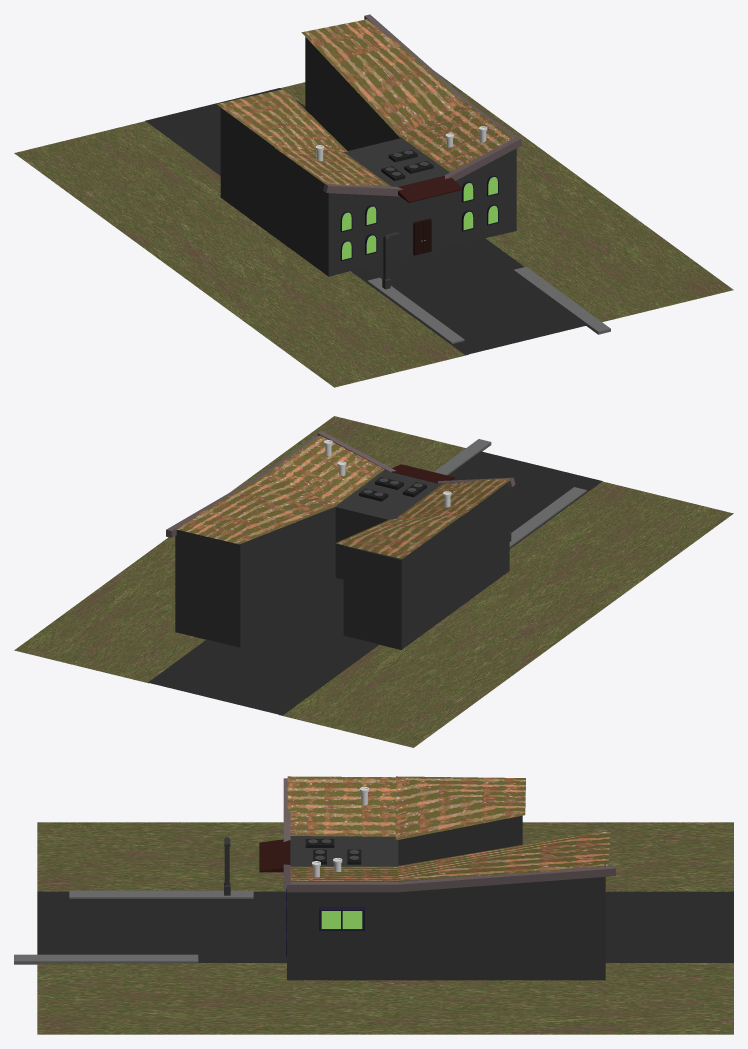
File: zavod scene.fbx
The picture shows the model from 3 angles, top to bottom: view 1: azimuth 30°, elevation 25°; view 2: azimuth 150°, elevation 25°; view 3: azimuth 270°, elevation 25°; orthographic projection. The views are drawn at different scales.
Visible parts, largest first — view 1: Plane.003, Cube, Plane.002, Plane, Plane.005, Plane.006, Plane.007, Plane.004, Cube.003, Cube.024, Cube.019, Cube.012 (+2 smaller); view 2: Plane.003, Cube, Plane, Plane.002, Plane.005, Plane.007, Plane.006, Plane.004, Cube.019, Cube.024, Cube.017, Cube.003 (+1 smaller); view 3: Plane.002, Cube, Plane.003, Plane, Plane.006, Plane.004, Plane.005, Cube.017, Cube.024, Cube.019, Plane.007, Cube.001 (+2 smaller).
Part boxes in pixels (<box>): Plane.003: <box>14,121,468,387</box>; Cube: <box>220,20,516,276</box>; Plane.002: <box>280,71,733,322</box>; Plane: <box>145,88,587,354</box>; Plane.005: <box>301,19,464,137</box>; Plane.006: <box>217,89,347,152</box>; Plane.007: <box>401,102,513,172</box>; Plane.004: <box>274,147,390,186</box>; Cube.003: <box>323,136,522,196</box>; Cube.024: <box>513,267,610,334</box>; Cube.019: <box>367,277,464,343</box>; Cube.012: <box>398,175,462,202</box>; Plane.003: <box>279,481,733,747</box>; Cube: <box>175,470,509,649</box>; Plane: <box>148,451,602,715</box>; Plane.002: <box>14,416,465,683</box>; Plane.005: <box>176,471,336,544</box>; Plane.007: <box>270,435,384,505</box>; Plane.006: <box>335,514,462,558</box>; Plane.004: <box>396,478,512,518</box>; Cube.019: <box>509,487,586,547</box>; Cube.024: <box>434,439,491,475</box>; Cube.017: <box>166,434,318,537</box>; Cube.003: <box>317,430,515,487</box>; Plane.002: <box>37,963,733,1034</box>; Cube: <box>287,815,605,980</box>; Plane.003: <box>37,822,733,891</box>; Plane: <box>37,891,733,962</box>; Plane.006: <box>395,776,525,839</box>; Plane.004: <box>287,776,395,836</box>; Plane.005: <box>397,830,610,881</box>; Cube.017: <box>287,865,615,892</box>; Cube.024: <box>14,954,198,964</box>; Cube.019: <box>69,890,253,898</box>; Plane.007: <box>290,866,400,881</box>; Cube.001: <box>319,907,364,930</box>.
Size of the model in its own units: 7238 by 1876 by 10384.
16 materials, 2 textured.
